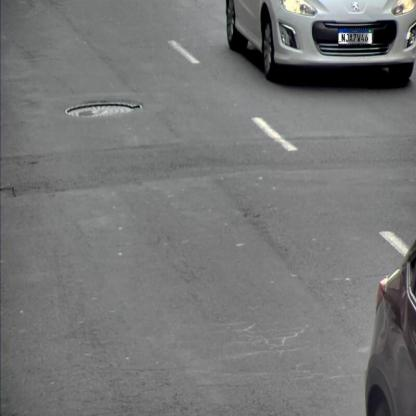PlacaM: (338, 28, 372, 44)
